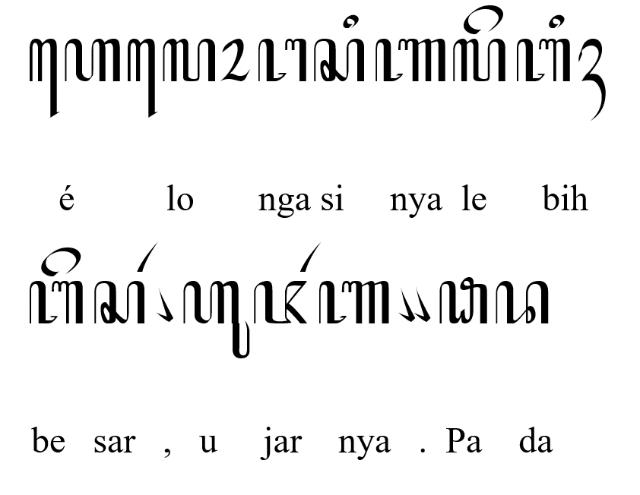P: (438, 276, 488, 324)
_h1: (578, 36, 606, 122)
_r1: (136, 241, 160, 273), (299, 241, 321, 273)
b: (515, 37, 571, 83), (28, 280, 84, 325)
d: (494, 280, 548, 324)
e: (40, 246, 82, 278), (462, 5, 503, 36)
e1: (126, 37, 158, 119), (29, 37, 60, 118)
h: (64, 38, 120, 82)
hu: (182, 281, 250, 360)
i: (342, 14, 358, 30), (548, 14, 564, 30)
j: (252, 280, 308, 324)
kom: (153, 285, 173, 322), (396, 288, 416, 322), (412, 288, 430, 322)
l: (162, 38, 216, 84), (452, 38, 506, 83)
nga: (257, 38, 307, 83)
ny1: (317, 281, 391, 325), (375, 38, 447, 83)
o: (220, 38, 250, 82)
s: (312, 38, 366, 82), (94, 280, 146, 325)
